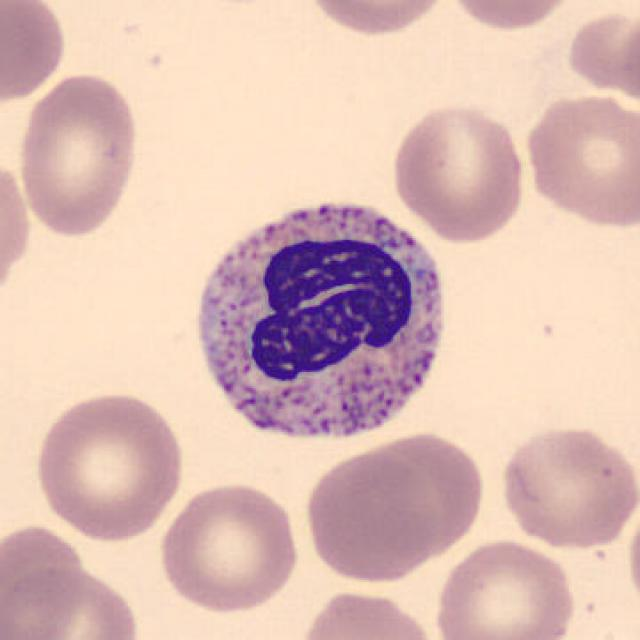Neutrophil: (182, 185, 460, 460)
RBC: (28, 388, 188, 543), (12, 68, 142, 242), (155, 478, 304, 617), (388, 99, 530, 243), (301, 442, 439, 586), (350, 427, 487, 564), (496, 421, 638, 552), (521, 88, 638, 233), (432, 536, 580, 640), (0, 560, 146, 640), (0, 518, 89, 635), (293, 585, 443, 640), (562, 5, 638, 104), (0, 0, 69, 107), (299, 0, 453, 39), (0, 155, 34, 307), (442, 0, 581, 33), (624, 486, 640, 618)
